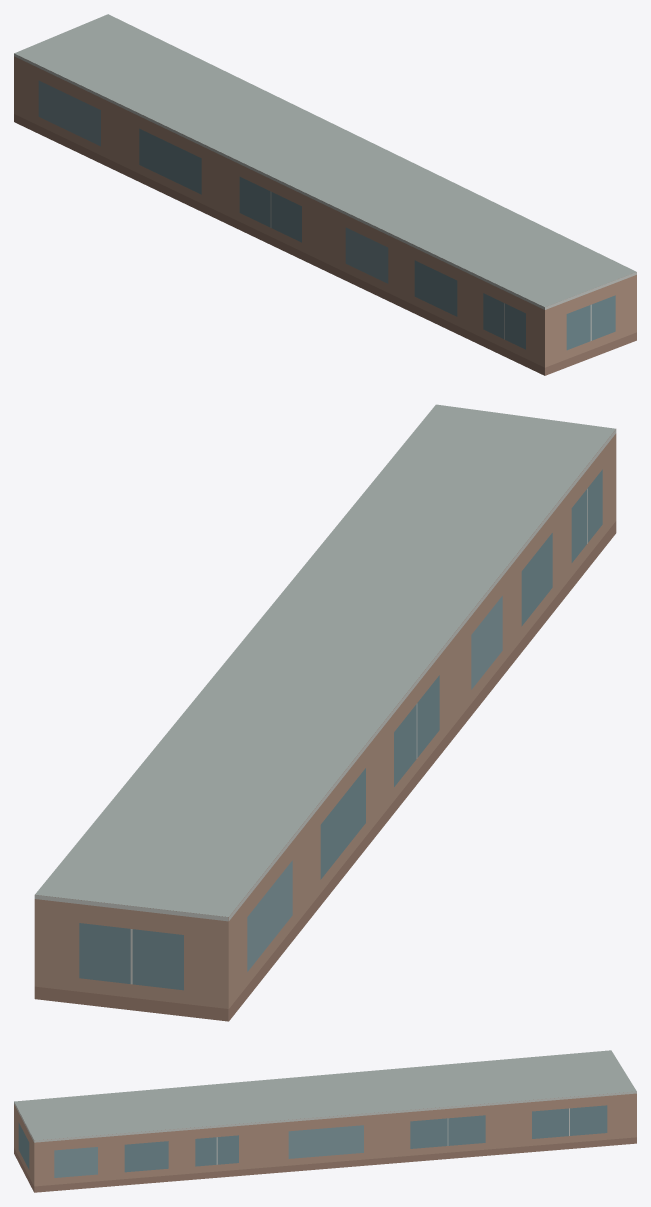
The model's file is survey-upis-32525244.glb.
3 views of the same model, one above another, from view 1: azimuth 30°, elevation 25°; view 2: azimuth 150°, elevation 25°; view 3: azimuth 270°, elevation 25° (orthographic). The views are drawn at different scales.
Parts seen in each view (by area): view 1: survey-upis-32525244.tmp; view 2: survey-upis-32525244.tmp; view 3: survey-upis-32525244.tmp.
Boxes of the visible parts, bbox=[...] form: survey-upis-32525244.tmp: bbox=[14, 14, 636, 375]; survey-upis-32525244.tmp: bbox=[34, 404, 616, 1021]; survey-upis-32525244.tmp: bbox=[14, 1050, 636, 1192].
Size of the model in its own units: 11.33 by 3.05 by 33.01.
